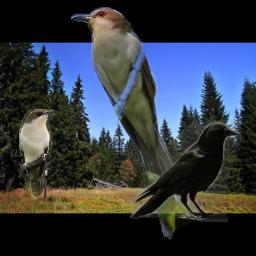Crow: (129, 120, 241, 222)
Cuckoo: (71, 7, 194, 240), (19, 109, 57, 199)
